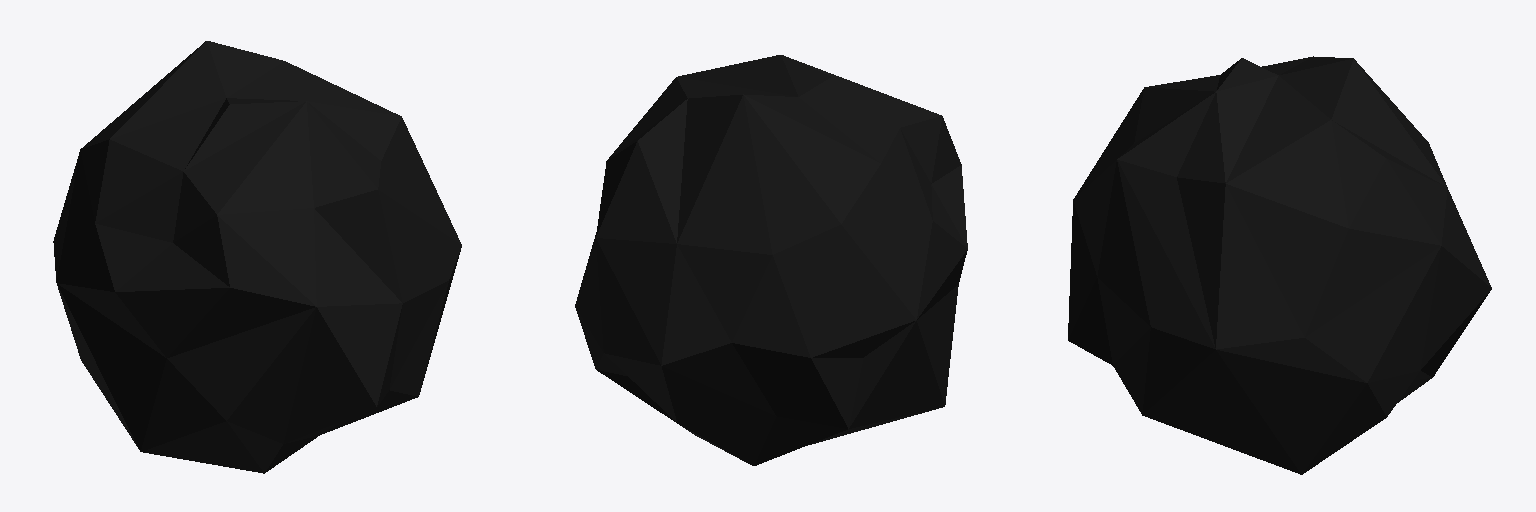
Rendered from stone.obj.
3 views of the same model, side by side, from view 1: azimuth 30°, elevation 25°; view 2: azimuth 150°, elevation 25°; view 3: azimuth 270°, elevation 25° (orthographic).
Visible parts, largest first — view 1: Icosphere; view 2: Icosphere; view 3: Icosphere.
Part boxes in pixels (left/top/right/bottom): Icosphere: left=53, top=41, right=461, bottom=473; Icosphere: left=575, top=55, right=967, bottom=465; Icosphere: left=1068, top=56, right=1491, bottom=474.
Bounding box in the file's own units: 2.02 × 2.12 × 2.13.